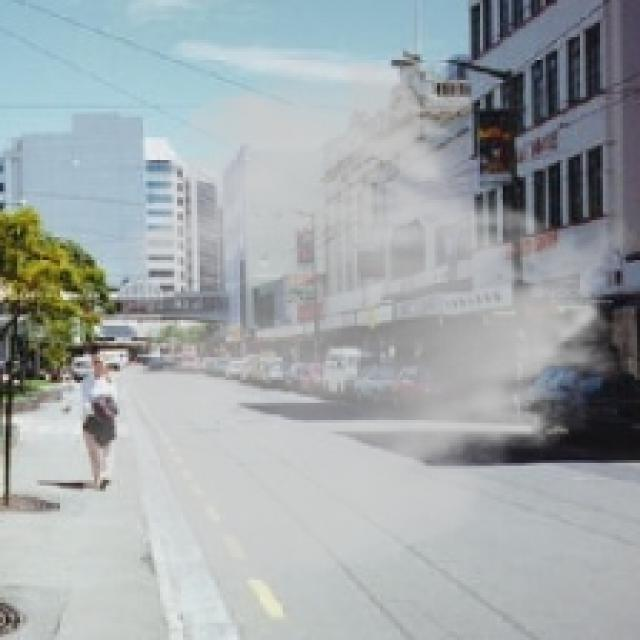Smoke: (80, 51, 637, 600)
